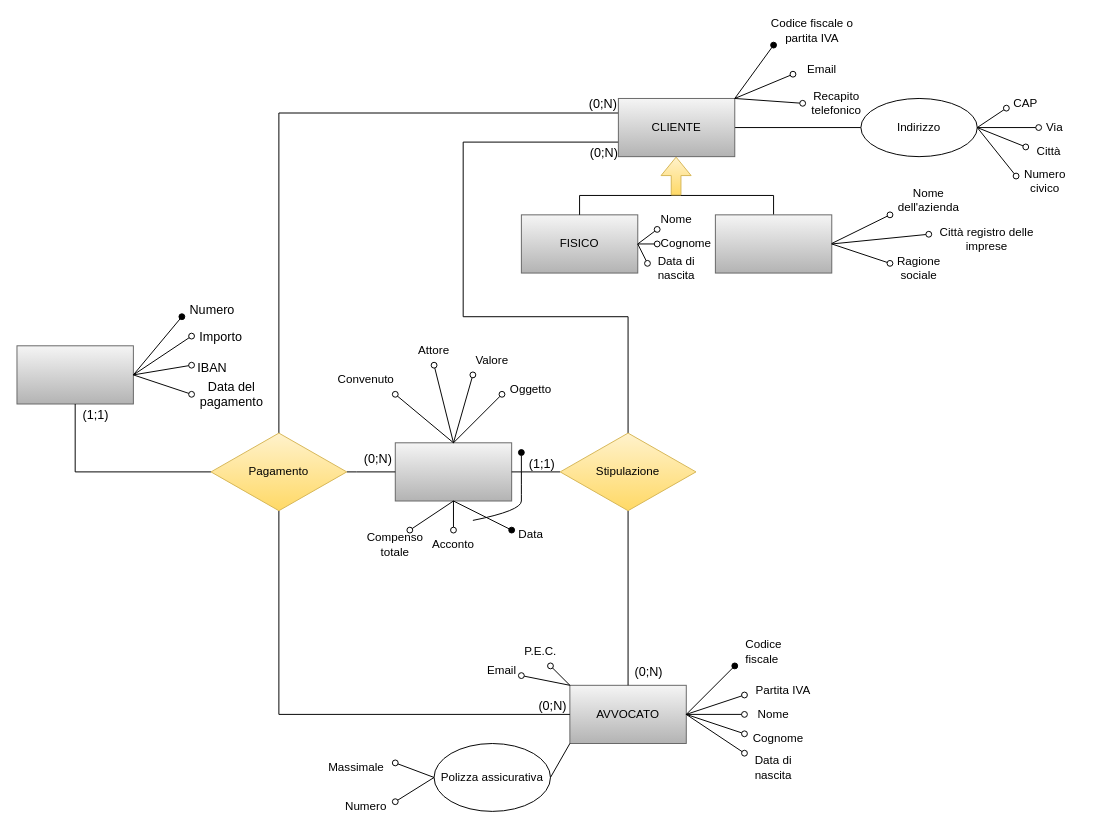
The diagram is 1101 pixels wide and 838 high, and some of its shapes have lost their labels. Here are the shapes that lost their labels. From the top down, the centre of each, then its label:
(x=773, y=243): GIURIDICO
(x=74, y=374): FATTURA
(x=453, y=471): CONTRATTO
